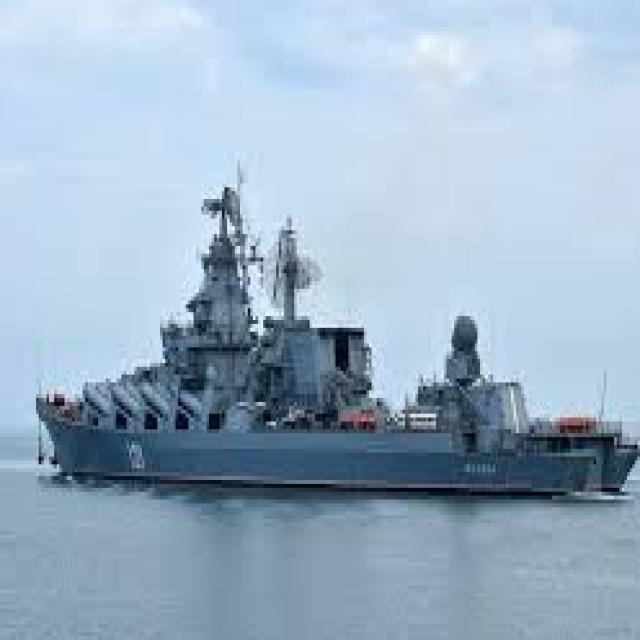navalvessels: (33, 167, 640, 511)
